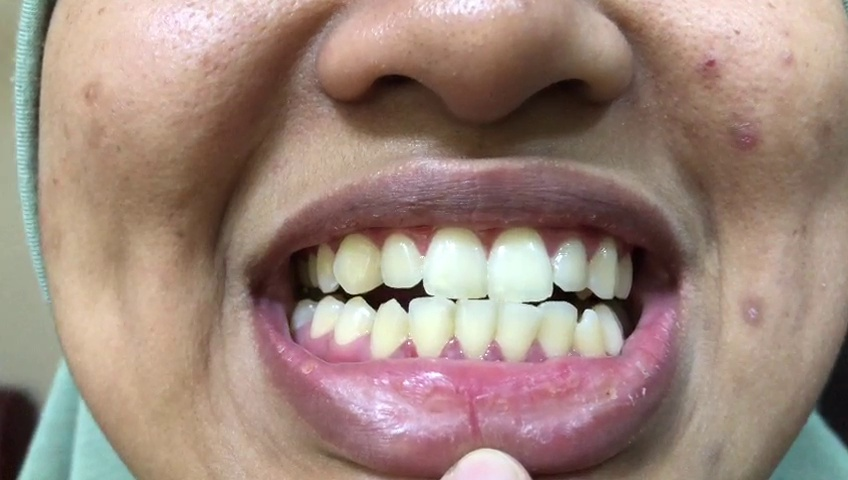1st Molar: (289, 297, 318, 334)
1st Premolar: (333, 299, 374, 349), (597, 305, 624, 362), (313, 242, 338, 297), (615, 252, 634, 299)
2nd Premolar: (310, 297, 344, 342)
Canine: (333, 231, 384, 299), (587, 235, 617, 302), (372, 300, 406, 359), (575, 308, 604, 368)
Central Incisor: (488, 228, 554, 302), (422, 227, 487, 300), (494, 299, 541, 366), (458, 298, 496, 359)
Lateral Incisor: (408, 297, 456, 360), (537, 299, 576, 364), (380, 236, 421, 291), (553, 237, 587, 292)
